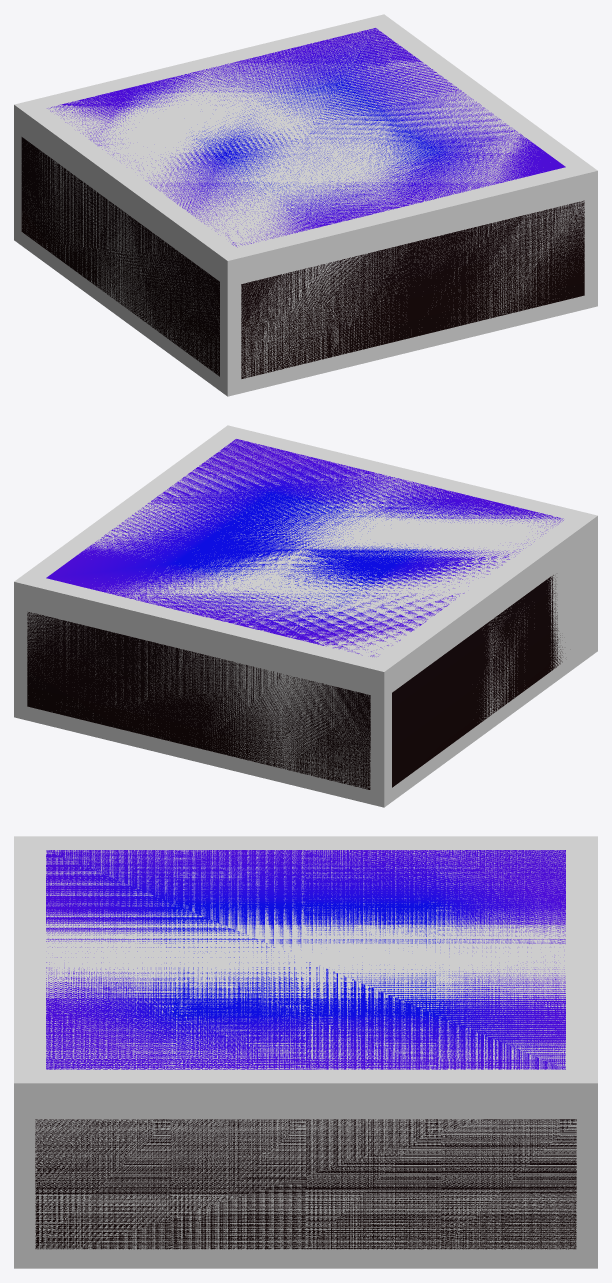
File: prop_display_riser.fbx
3 renders of one model, top to bottom at view 1: azimuth 30°, elevation 25°; view 2: azimuth 150°, elevation 25°; view 3: azimuth 270°, elevation 25°, orthographic. The views are drawn at different scales.
Parts seen in each view (by area): view 1: COL_0, prop_display_riser; view 2: COL_0, prop_display_riser; view 3: COL_0, prop_display_riser.
Boxes of the visible parts, x1,y1,x2,y2 form: COL_0: [14, 14, 597, 396]; prop_display_riser: [21, 28, 584, 378]; COL_0: [14, 425, 597, 807]; prop_display_riser: [27, 439, 563, 789]; COL_0: [14, 836, 597, 1268]; prop_display_riser: [35, 850, 576, 1249].
Size of the model in its own units: 0.22 by 0.077 by 0.22.
